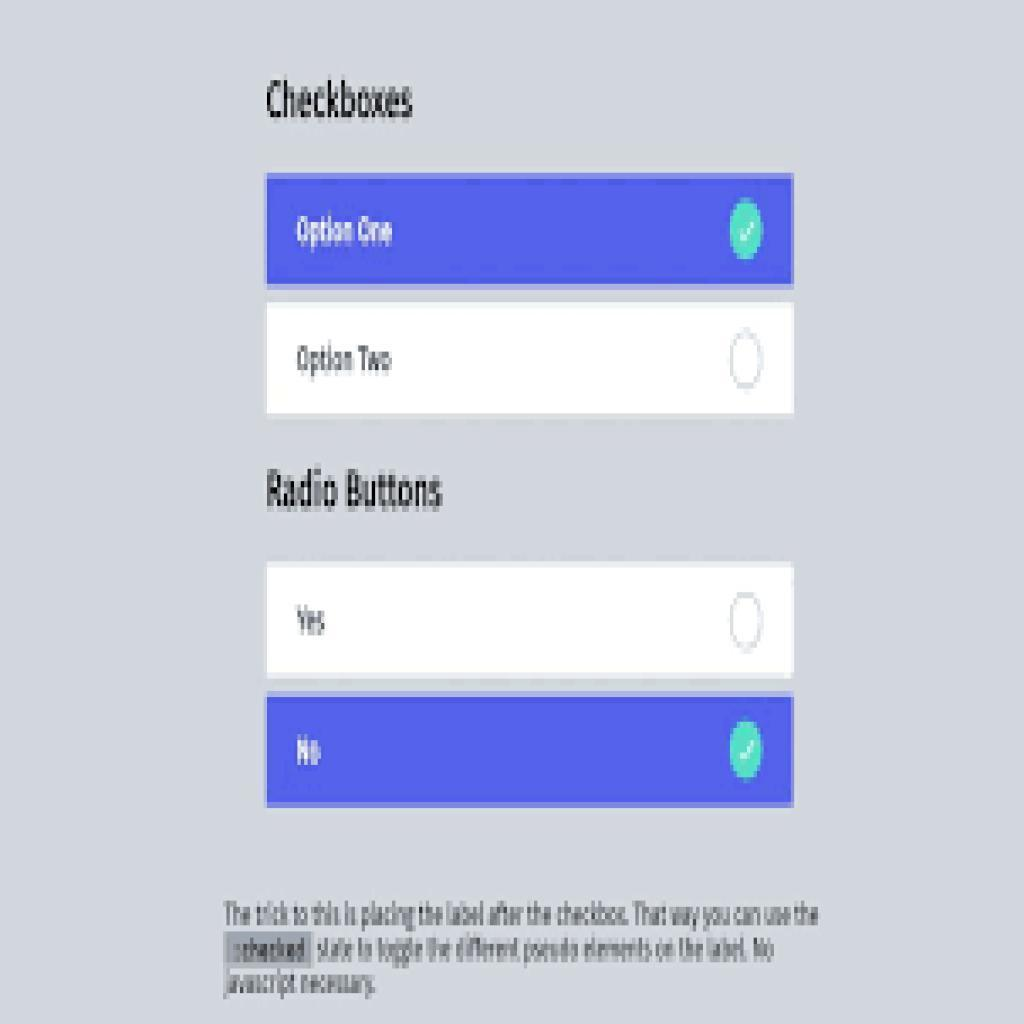checkbox: (727, 197, 767, 266)
label: (288, 335, 410, 383), (297, 217, 398, 252), (291, 734, 329, 772), (298, 602, 330, 643)
radio: (725, 328, 770, 392), (728, 594, 767, 652), (732, 721, 764, 783)
